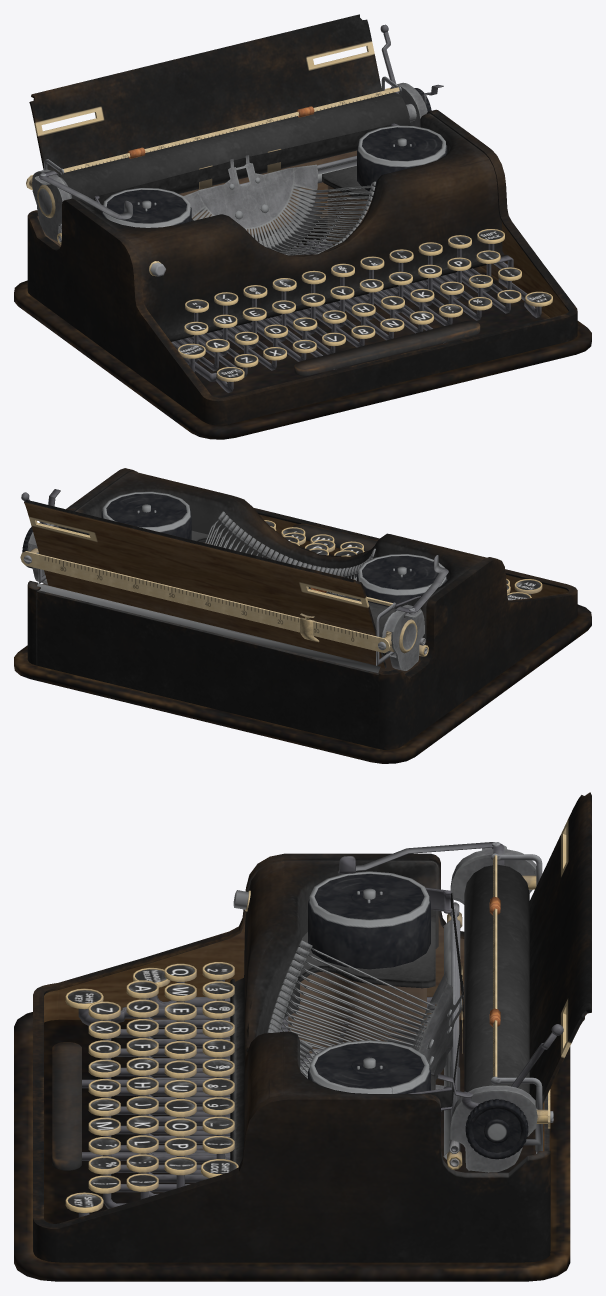
Rendered from typewriter.glb.
The picture shows the model from 3 angles, top to bottom: view 1: azimuth 30°, elevation 25°; view 2: azimuth 150°, elevation 25°; view 3: azimuth 270°, elevation 25°; orthographic projection. The views are drawn at different scales.
Visible parts, largest first — view 1: Object_3, Object_4, Object_5; view 2: Object_3, Object_4, Object_5; view 3: Object_3, Object_4, Object_5.
Boxes of the visible parts, left/top/right/bottom form: Object_3: left=14, top=109, right=591, bottom=439; Object_4: left=26, top=14, right=443, bottom=241; Object_5: left=57, top=123, right=447, bottom=255; Object_3: left=14, top=468, right=591, bottom=763; Object_4: left=20, top=489, right=448, bottom=670; Object_5: left=37, top=491, right=447, bottom=672; Object_3: left=14, top=853, right=570, bottom=1281; Object_4: left=338, top=792, right=591, bottom=1172; Object_5: left=267, top=871, right=542, bottom=1170.
Size of the model in its own units: 0.3782 by 0.169 by 0.352.
Materials: 1 (1 with a texture image).
